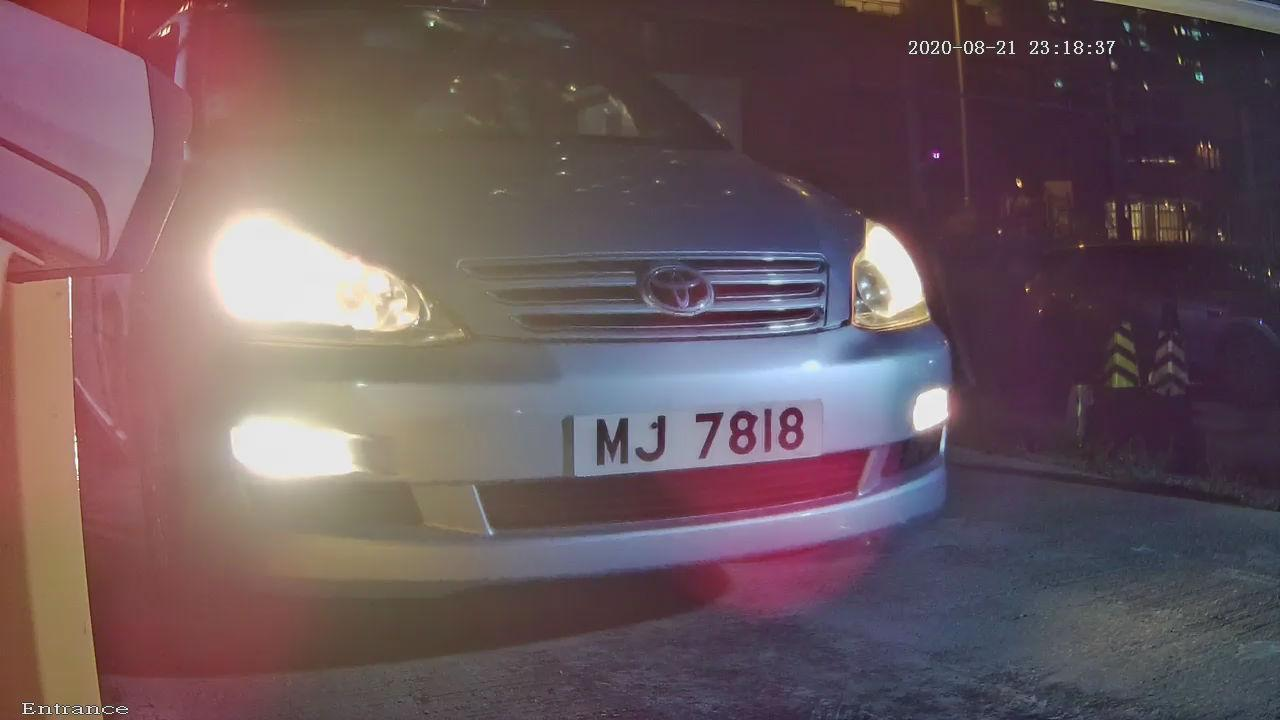Car: (12, 36, 1058, 666)
License Plate: (532, 380, 835, 489)
